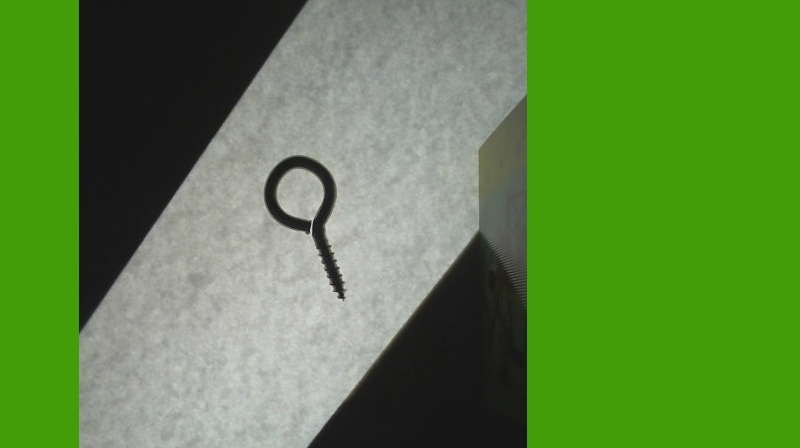O001: (262, 149, 350, 302)
